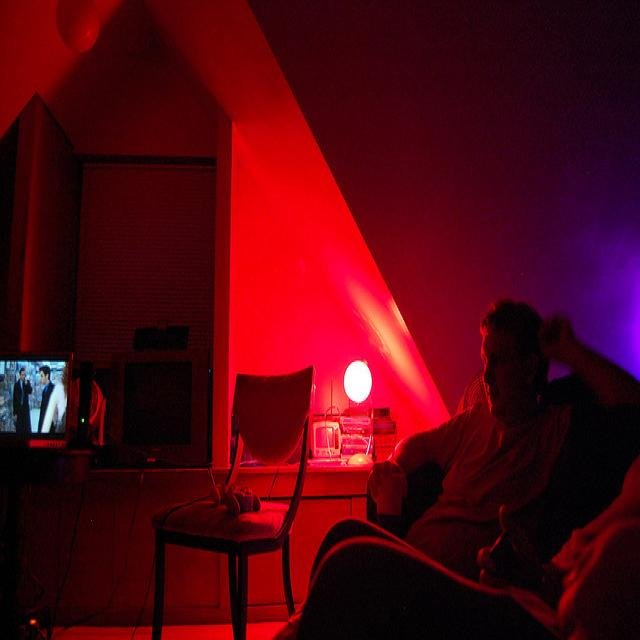People: (411, 304, 605, 638)
chair: (136, 348, 347, 640)
